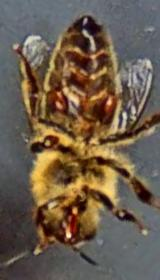varroa_mite: (93, 86, 119, 132), (40, 84, 72, 118)
